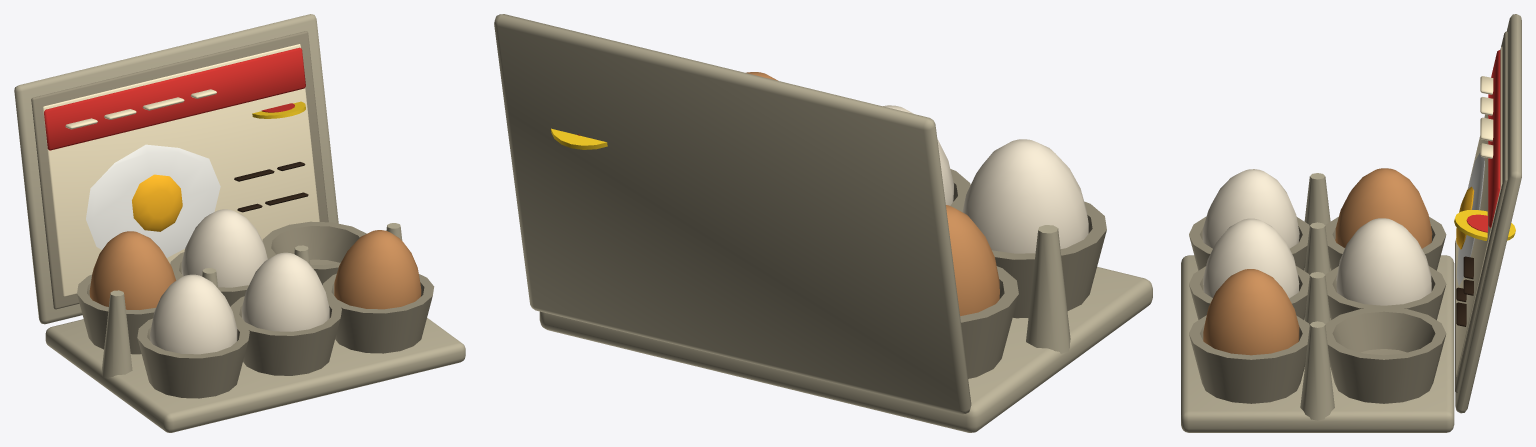
Rendered from dispenser_eggs.glb.
3 renders of one model, left to right at view 1: azimuth 30°, elevation 25°; view 2: azimuth 150°, elevation 25°; view 3: azimuth 270°, elevation 25°, orthographic. The views are drawn at different scales.
Visible parts, largest first — view 1: DispenserEggs; view 2: DispenserEggs; view 3: DispenserEggs.
Part boxes in pixels (x1,y1,x2,y2): DispenserEggs: (14,14,465,432); DispenserEggs: (494,14,1152,432); DispenserEggs: (1181,14,1521,432).
Size of the model in its own units: 4.96 by 3.71 by 4.37.
